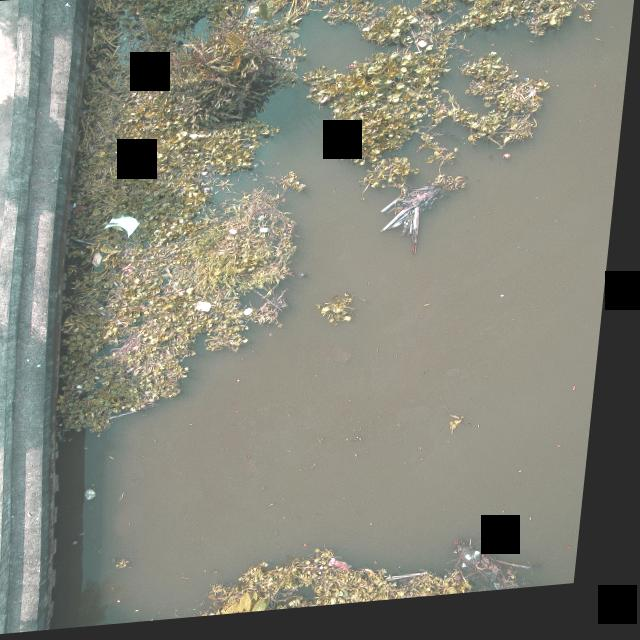plastic: (106, 211, 150, 245), (469, 557, 499, 579), (197, 300, 221, 319), (95, 250, 113, 275), (414, 43, 433, 59), (94, 488, 108, 504), (232, 230, 247, 243), (261, 230, 277, 242), (191, 135, 209, 144), (250, 310, 260, 324), (221, 8, 232, 15), (134, 11, 141, 19)
